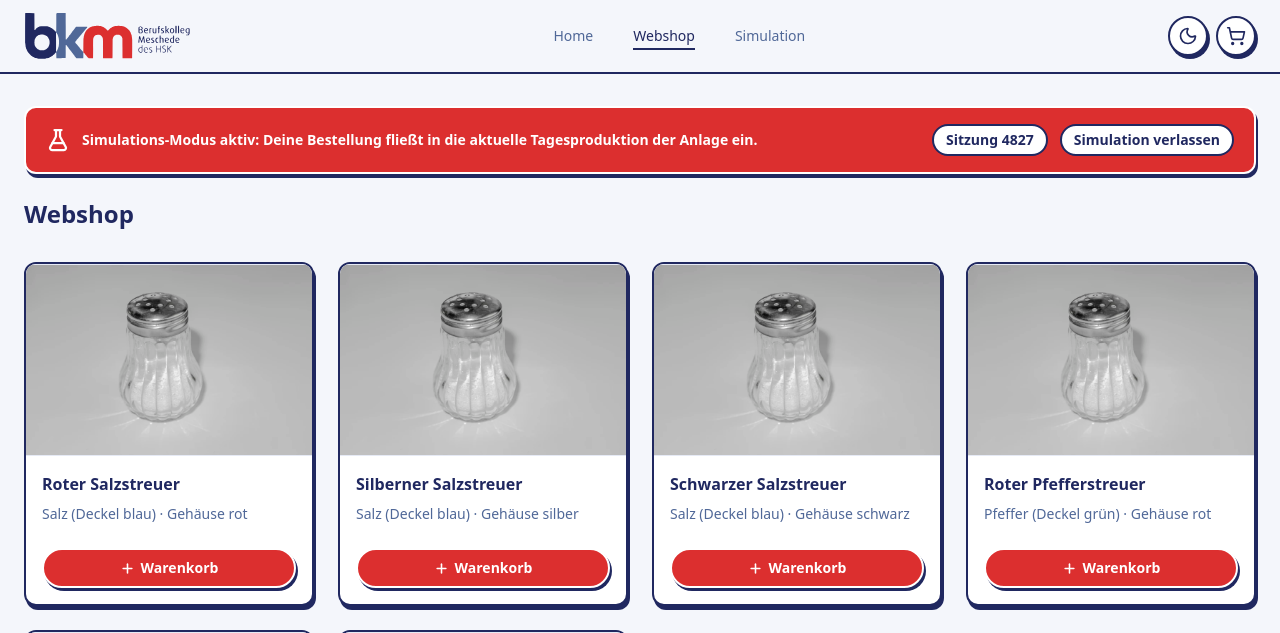
QR deep link › goes to the webshop for customers and back to the dashboard view afterwards
Check: the heading "Webshop" is shown, box [24,197,134,230]
Click the button "Simulation" at (770, 36), box [735,26,805,46]
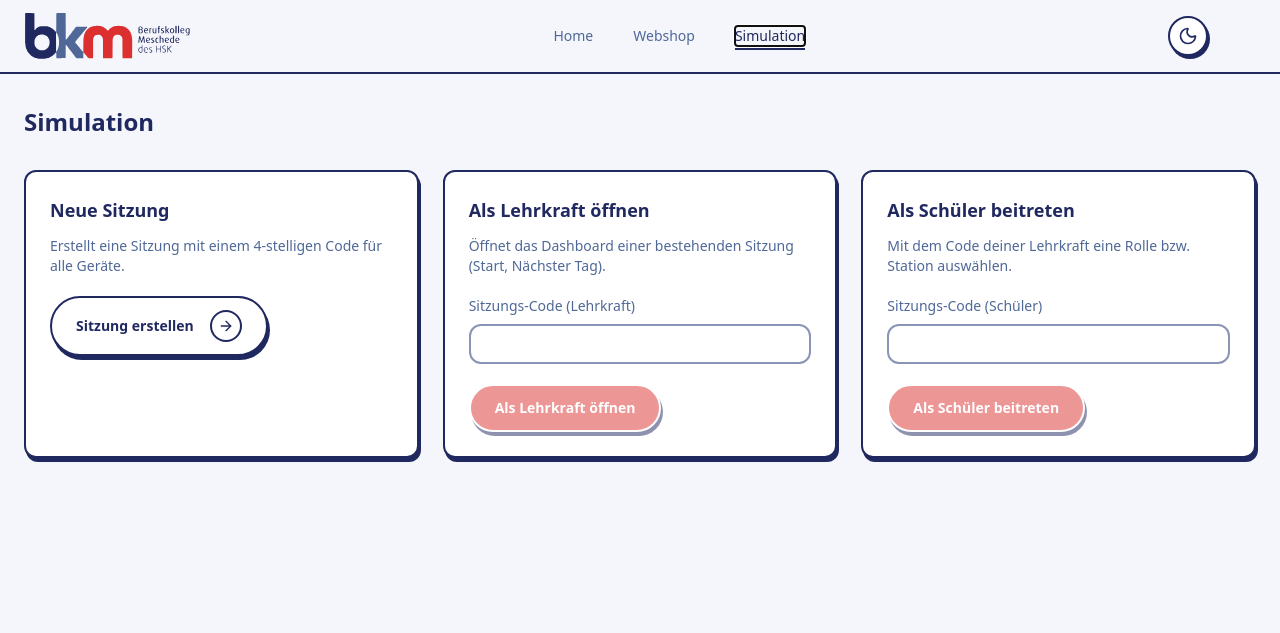
Check: the button "Sitzung erstellen" is shown, box [50,296,268,356]
